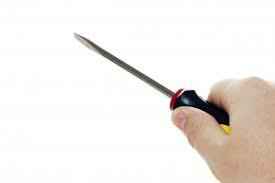screwdriver: (72, 30, 193, 107)
